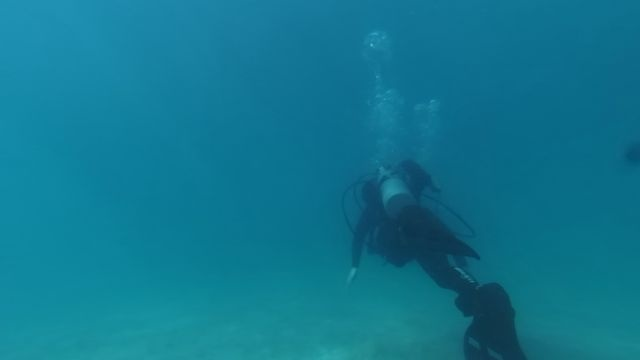Diver: (330, 154, 533, 359)
Hand: (342, 261, 368, 294)
